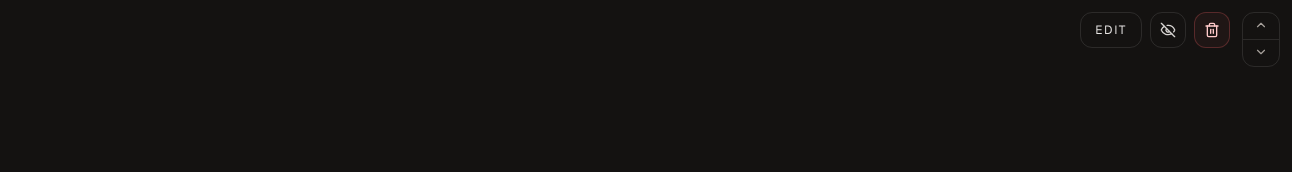
Test case: announcement row controls › delete confirmation › abandons the deletion when cancelled
Click the button named "Delete announcement".
click(1212, 30)  # box x1=1194 y1=12 x2=1230 y2=48
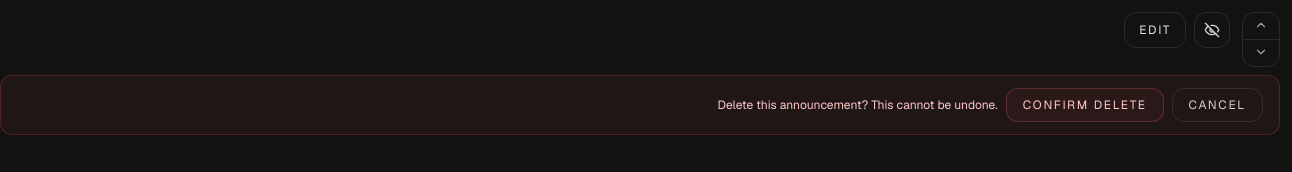
Click the button with aria-label "Keep announcement".
click(1217, 105)  # box x1=1172 y1=88 x2=1263 y2=122
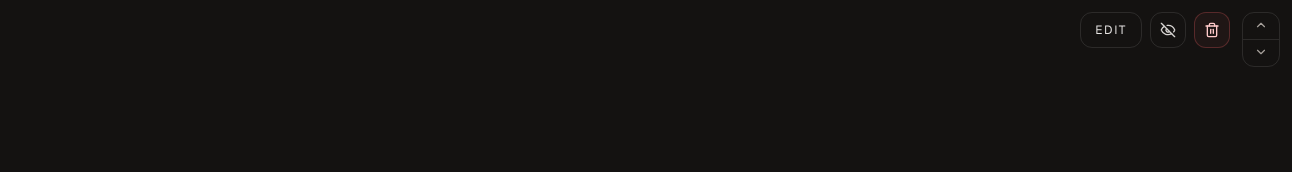
Now the text "Delete this announcement?" is gone
Now the button named "Delete announcement" is shown, box x1=1194 y1=12 x2=1230 y2=48
